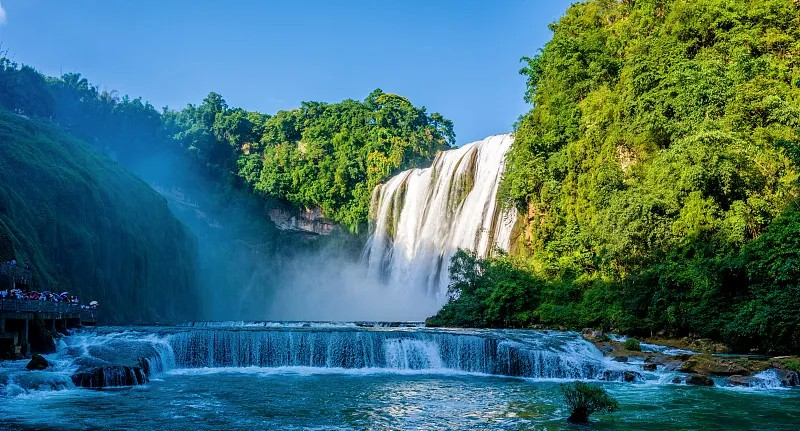Huangguoshu: (363, 135, 508, 324)
